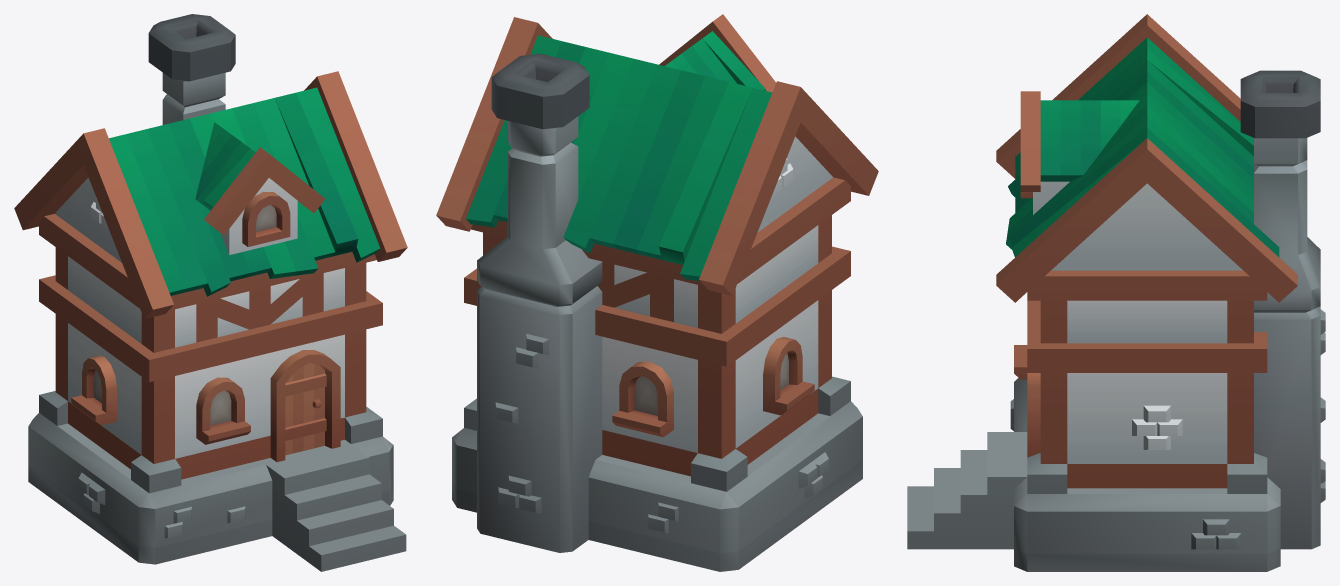
The model's file is kay-sobrado-verde.gltf.
3 renders of one model, left to right at view 1: azimuth 30°, elevation 25°; view 2: azimuth 150°, elevation 25°; view 3: azimuth 270°, elevation 25°, orthographic. The views are drawn at different scales.
Parts seen in each view (by area): view 1: building_home_B_green; view 2: building_home_B_green; view 3: building_home_B_green.
Part boxes in pixels (box(x1,y1,x2,y2)): building_home_B_green: box(14, 14, 407, 571); building_home_B_green: box(436, 14, 878, 571); building_home_B_green: box(907, 14, 1325, 571).
Bounding box in the file's own units: 4.37 × 6.4 × 5.49.
1 material, 1 textured.
